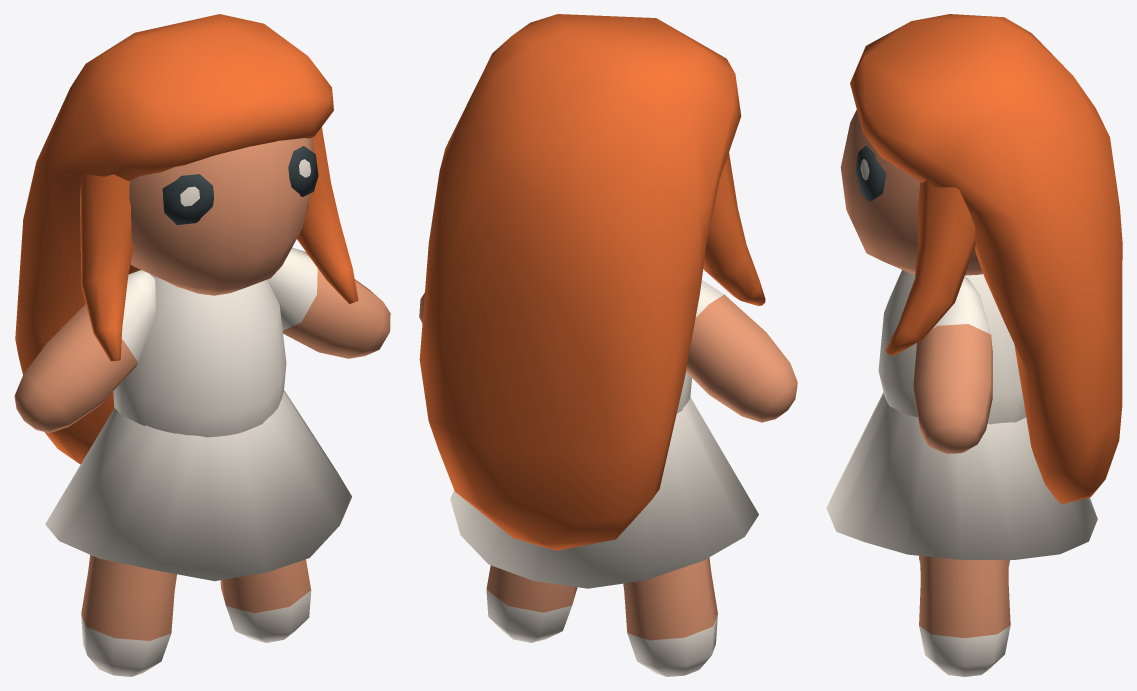
File: Doll_01.fbx
3 renders of one model, left to right at view 1: azimuth 30°, elevation 25°; view 2: azimuth 150°, elevation 25°; view 3: azimuth 270°, elevation 25°, orthographic. The views are drawn at different scales.
Visible parts, largest first — view 1: Doll_01; view 2: Doll_01; view 3: Doll_01.
Boxes of the visible parts, bbox=[...] form: Doll_01: bbox=[14, 14, 390, 676]; Doll_01: bbox=[419, 14, 797, 676]; Doll_01: bbox=[826, 14, 1122, 676].
Bounding box in the file's own units: 0.2294 × 0.3696 × 0.165.
